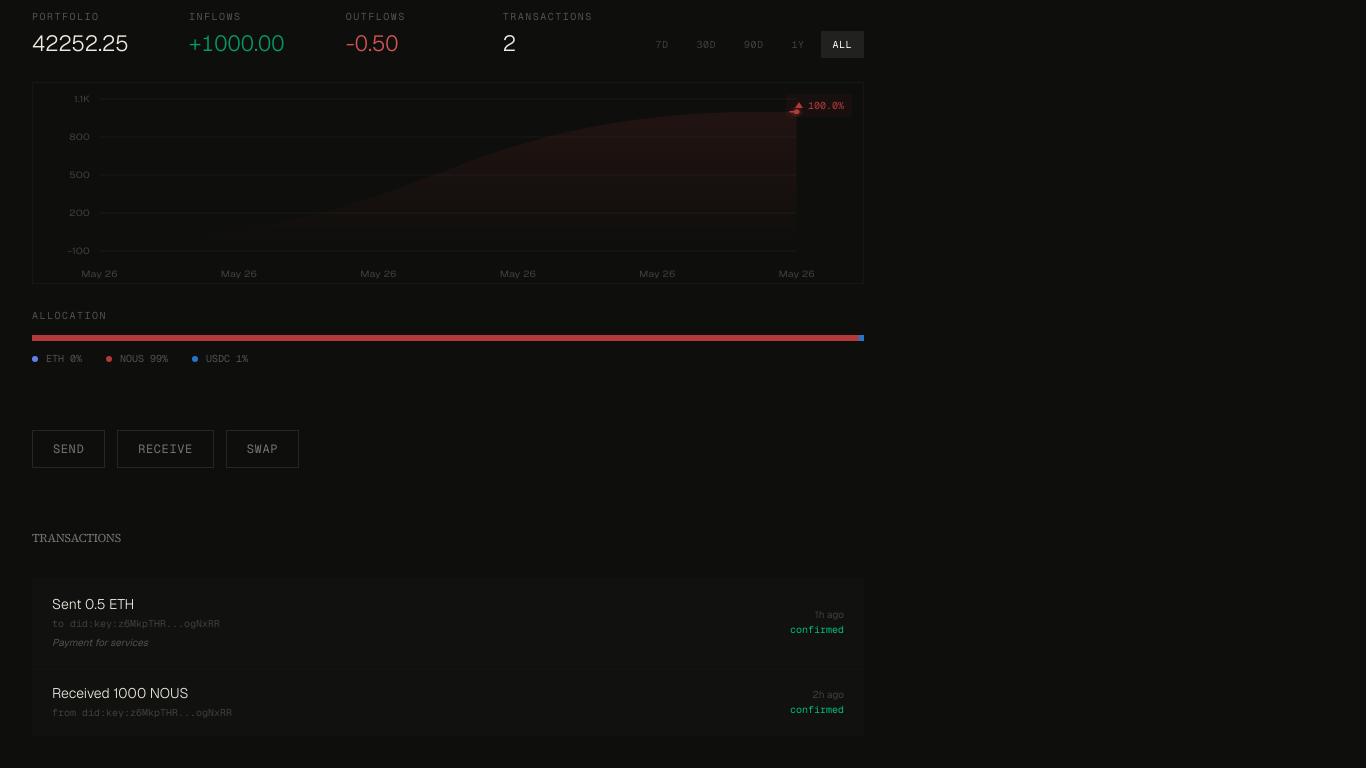
it: Wallet page › Send modal › renders Confirm Send and Cancel buttons
(page scrolled)
What coordinates should you click on to do the following:
click the button "Send"
I would click on:
 (69, 449)
Its box is [32,430,105,468].
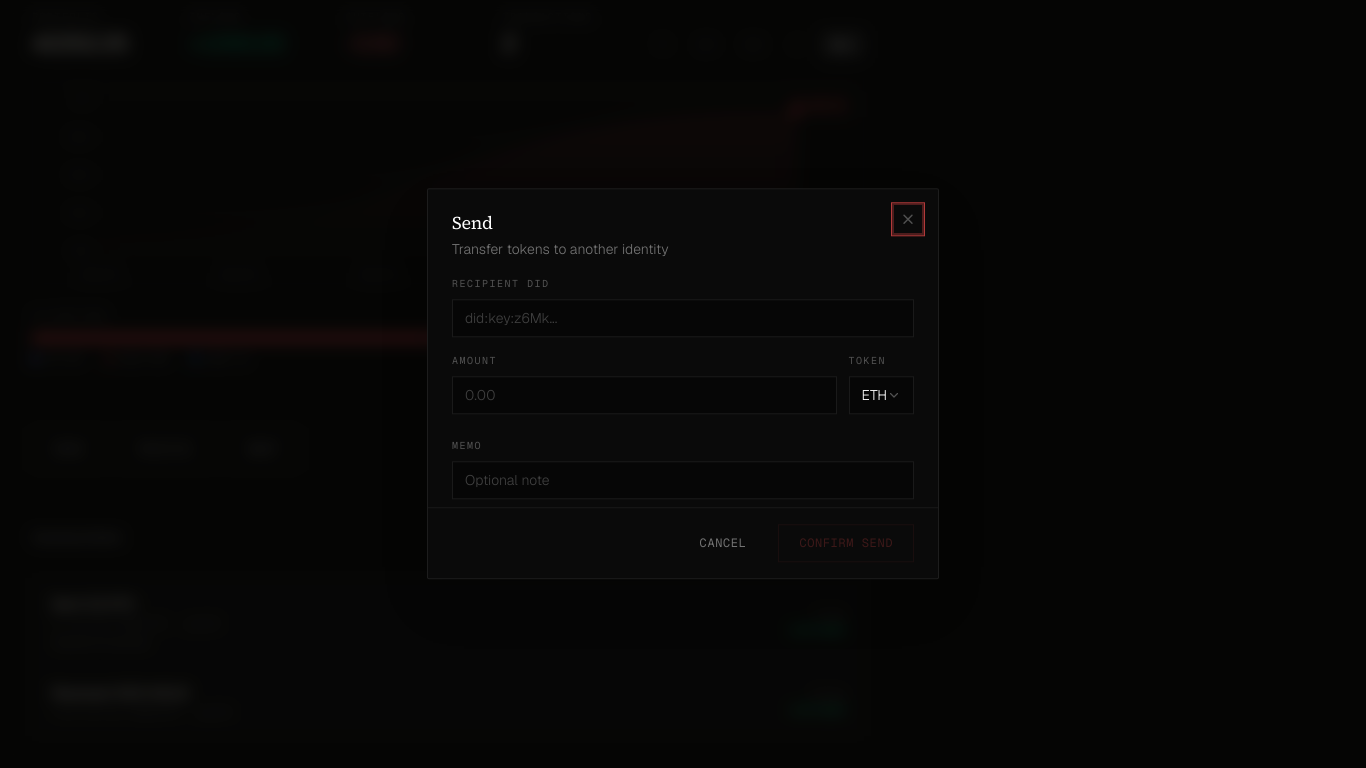
Result: the button "Confirm Send" is shown at [778,525,914,563]
